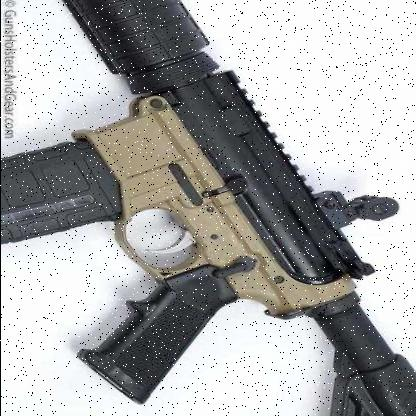rifle: (1, 0, 416, 414)
